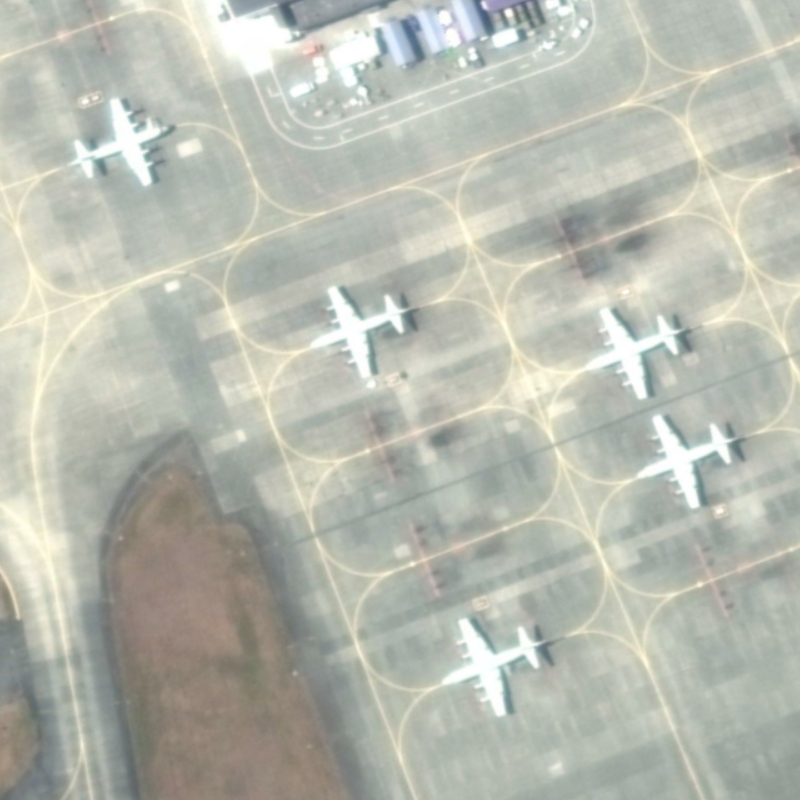A9: (440, 610, 555, 723), (576, 294, 693, 405), (303, 278, 419, 382), (632, 405, 744, 512), (64, 89, 173, 192)
